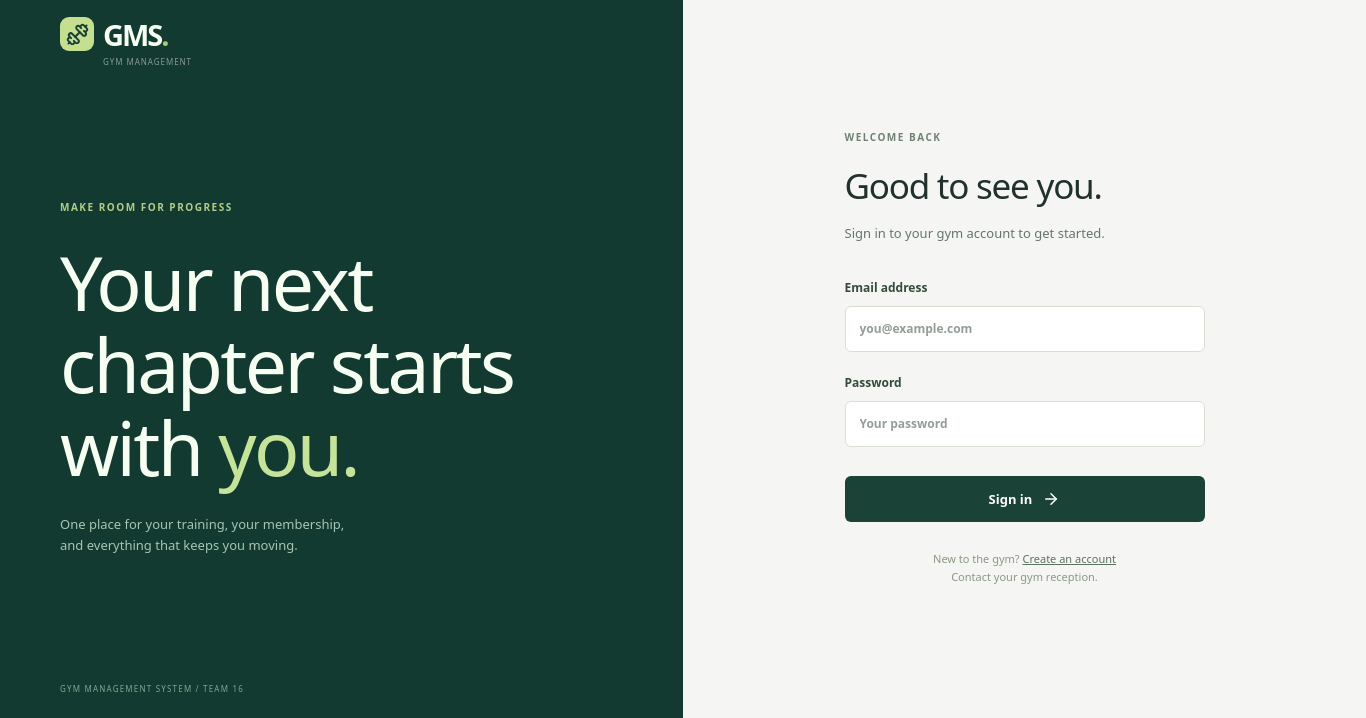
Test: member registration UI / issue #2 › rejects mismatched passwords before contacting the server
Click the button "Create an account" at [1069, 559], box [1022,550,1116,568]
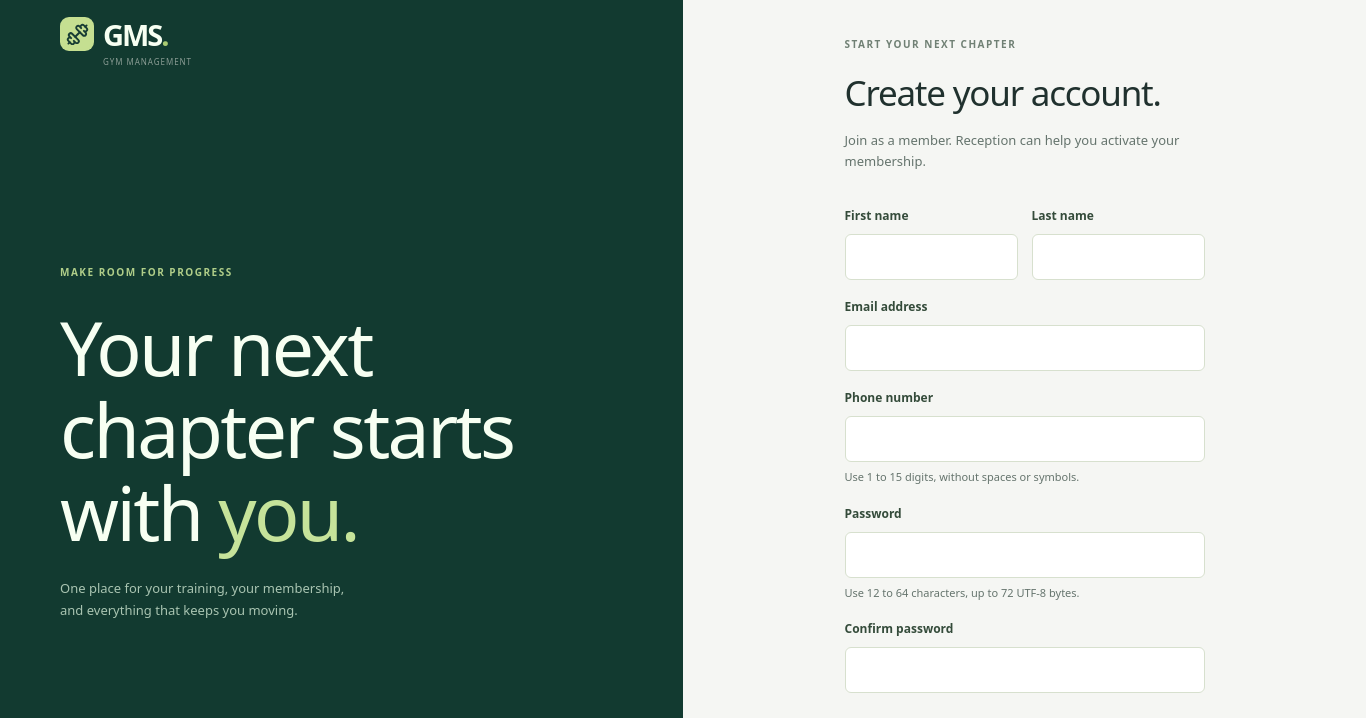
Type "Nitesh" into the field labelled "First name" at [931, 257], box [844,234,1018,280]
Type "Harsur" into the field labelled "Last name" at [1118, 257], box [1032,234,1204,280]
Type "NITESH@GYM.TEST" into the field labelled "Email address" at [1024, 348], box [844,325,1204,371]
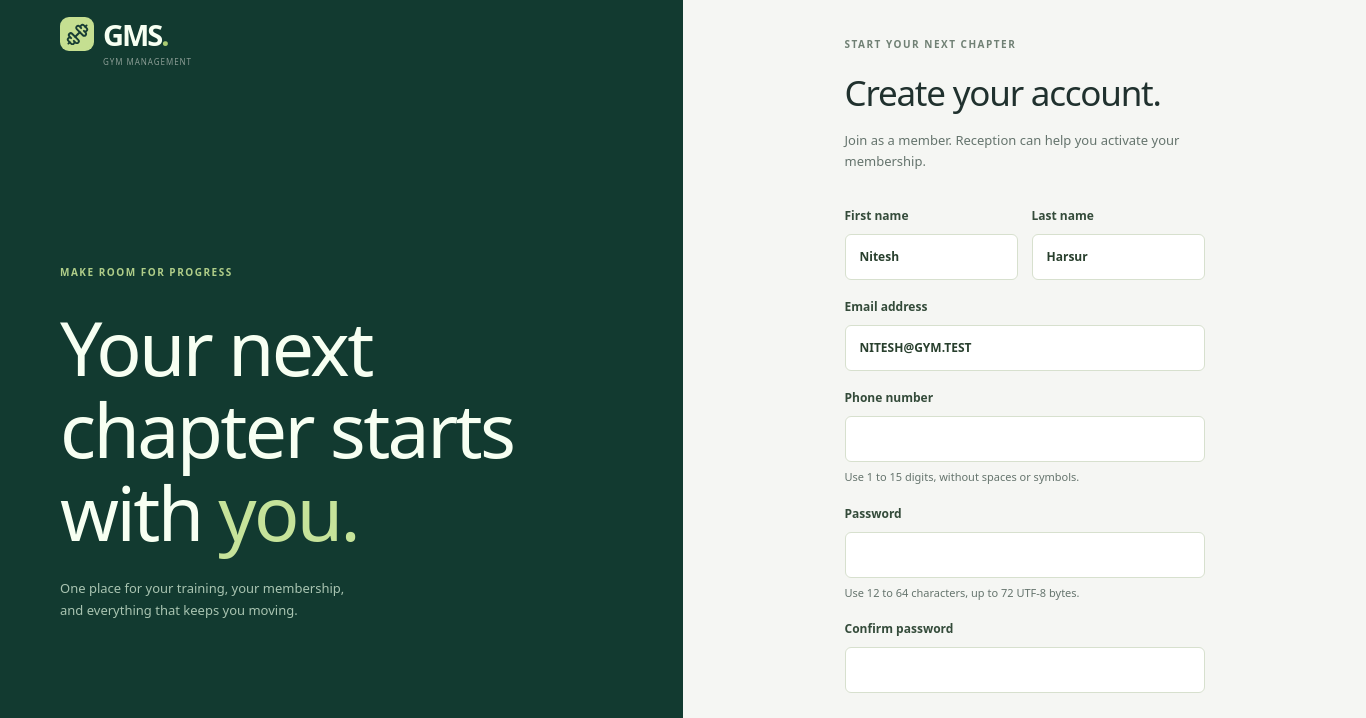
Type "09876543210" into the field labelled "Phone number" at [1024, 439], box [844,416,1204,462]
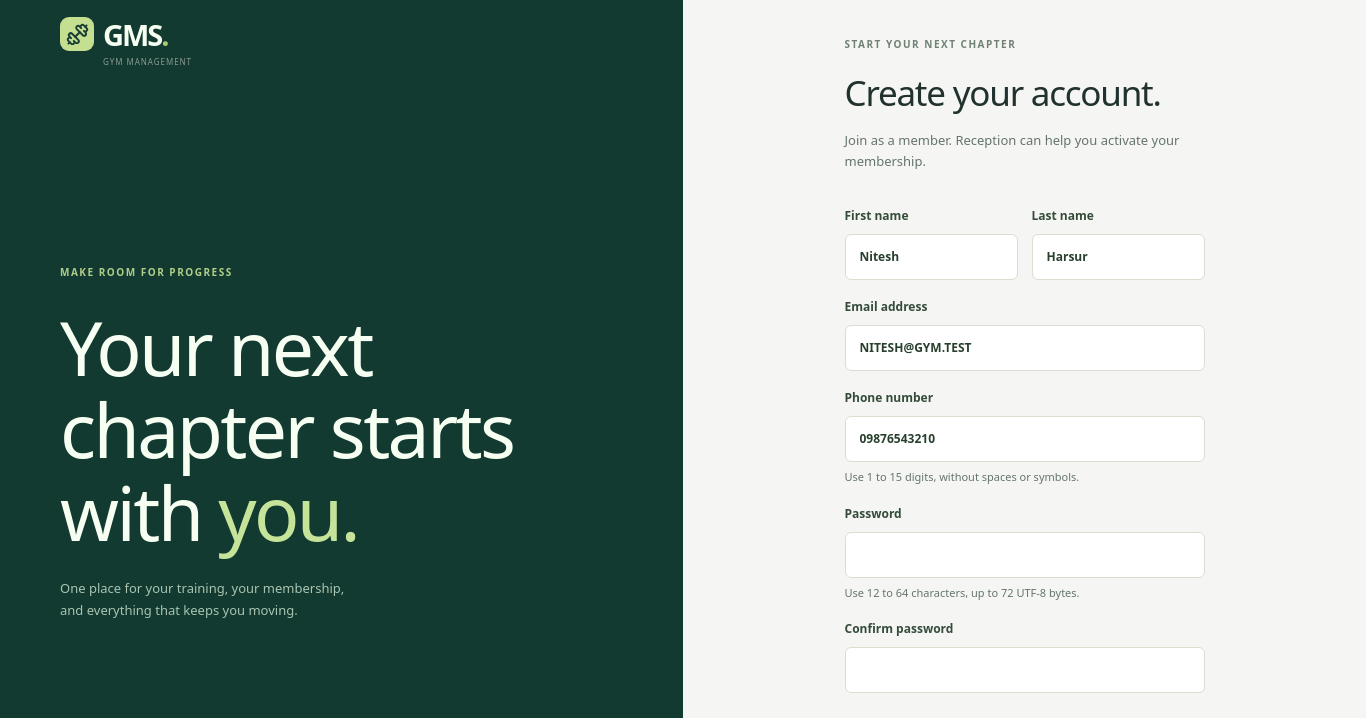
Type "a-long-member-password" into the password field labelled "Password" at [1024, 554], box [844,532,1204,578]
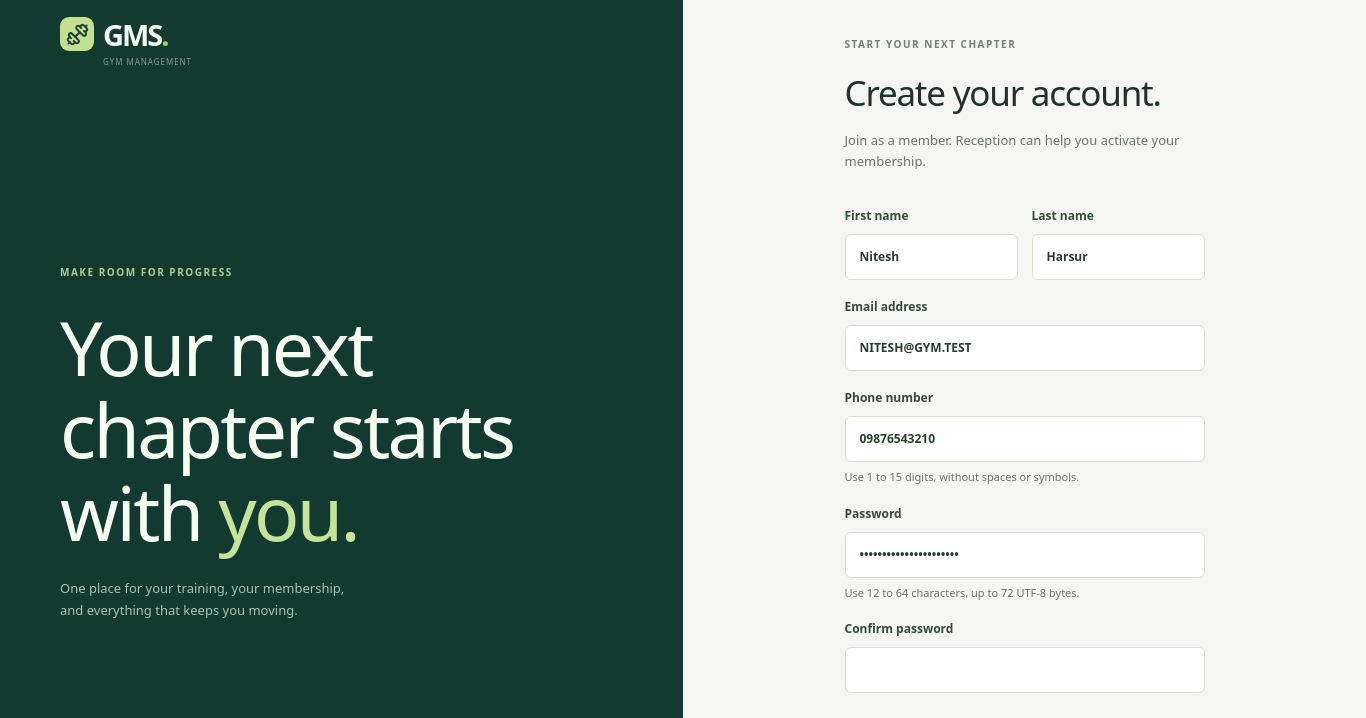
Type "another-long-password" into the password field labelled "Confirm password" at [1024, 670], box [844,647,1204,693]
(page scrolled)
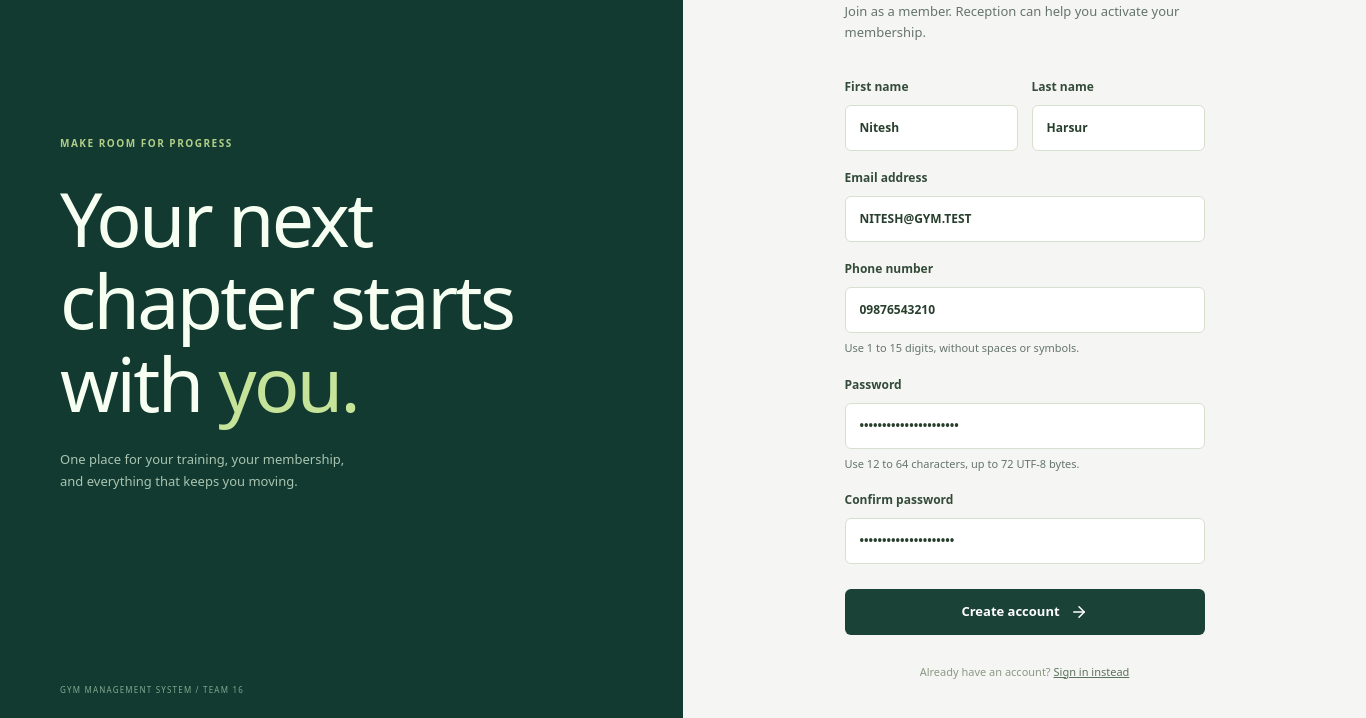
Submit the form named "Member registration", box [844,78,1204,635]
(page scrolled)
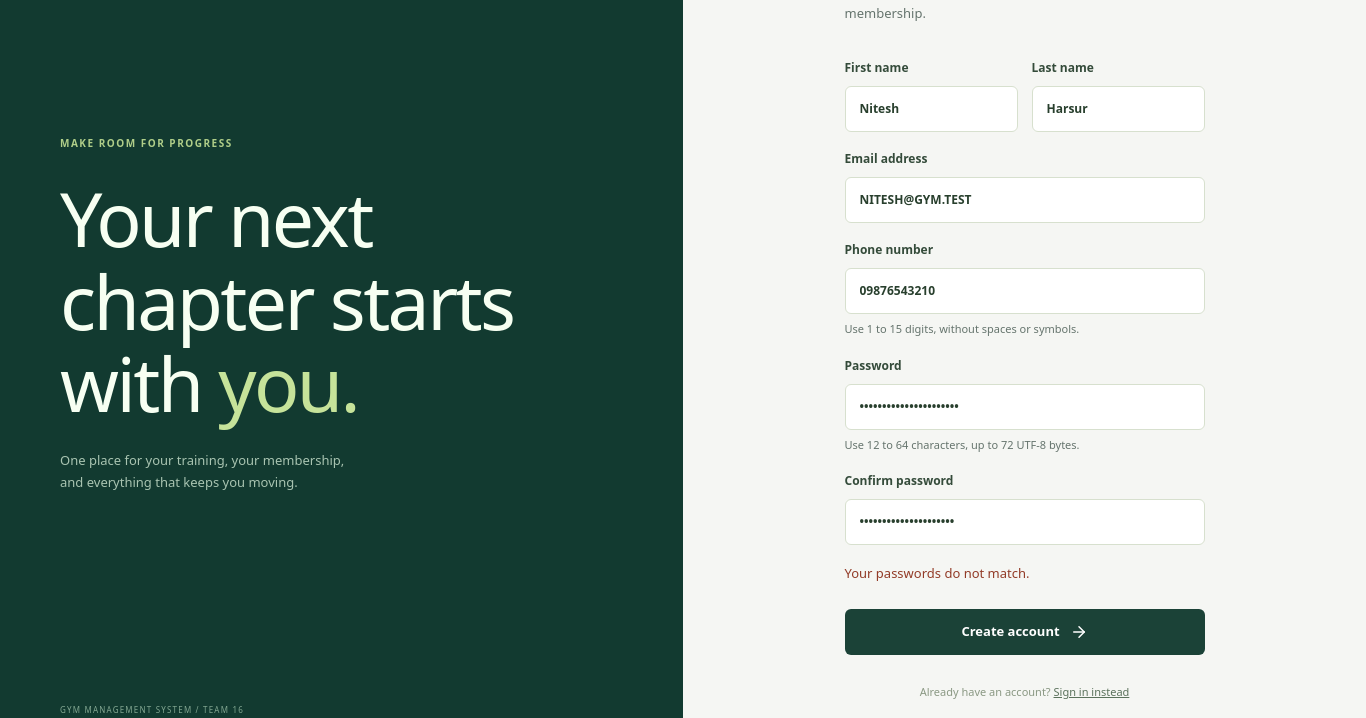
expect the message reads "Your passwords do not match.": met, box [844,564,1030,582]
